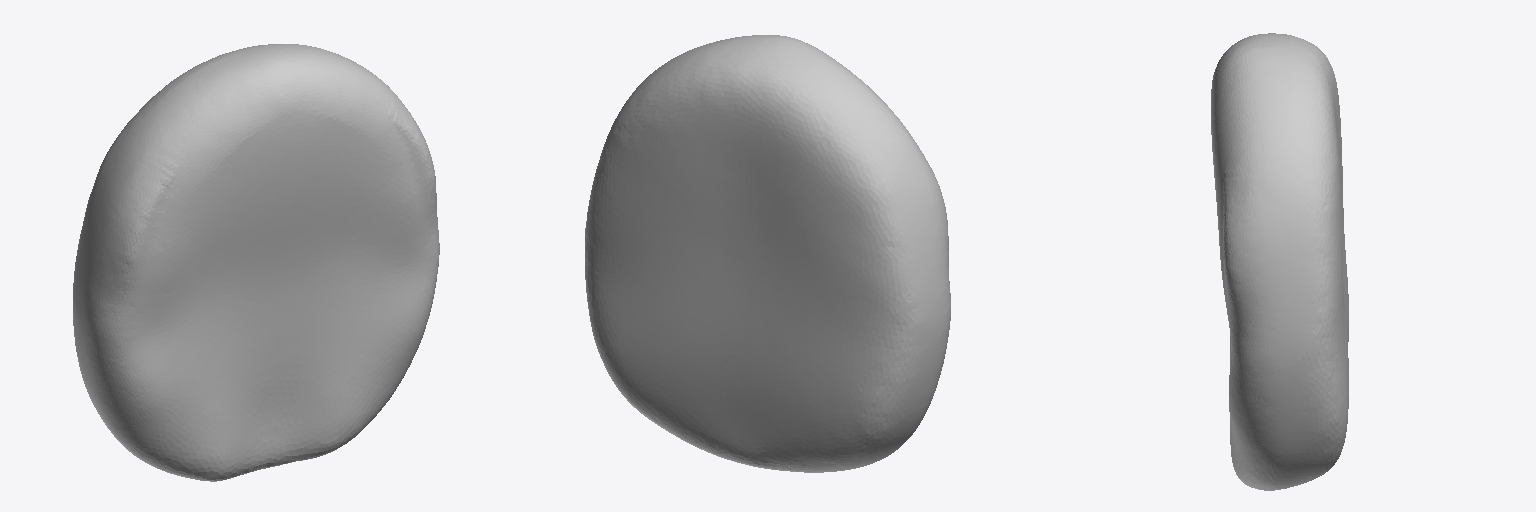
The model's file is back4.obj.
3 views of the same model, side by side, from view 1: azimuth 30°, elevation 25°; view 2: azimuth 150°, elevation 25°; view 3: azimuth 270°, elevation 25° (orthographic).
Visible parts, largest first — view 1: Group12609; view 2: Group12609; view 3: Group12609.
Boxes of the visible parts, <box> form: Group12609: <box>73,44,439,481</box>; Group12609: <box>585,35,950,472</box>; Group12609: <box>1211,33,1348,490</box>.
Bounding box in the file's own units: 0.3132 × 0.3593 × 0.1087.